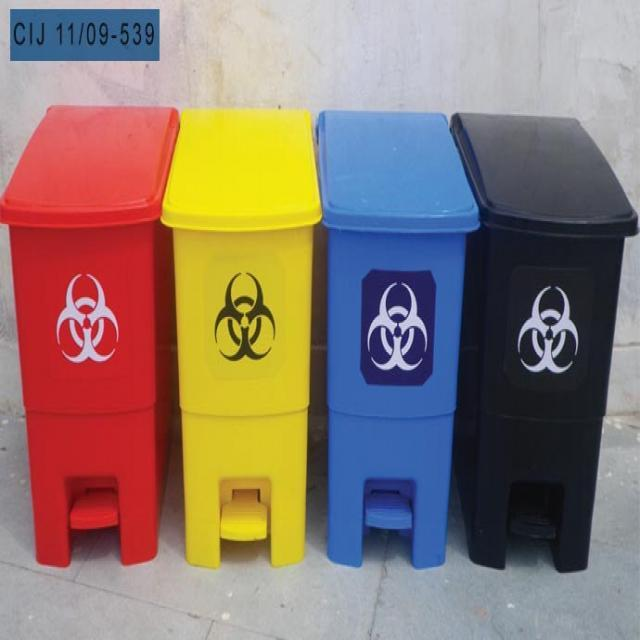bin: (453, 110, 636, 572), (0, 101, 180, 563), (160, 104, 320, 560), (321, 109, 477, 565)
